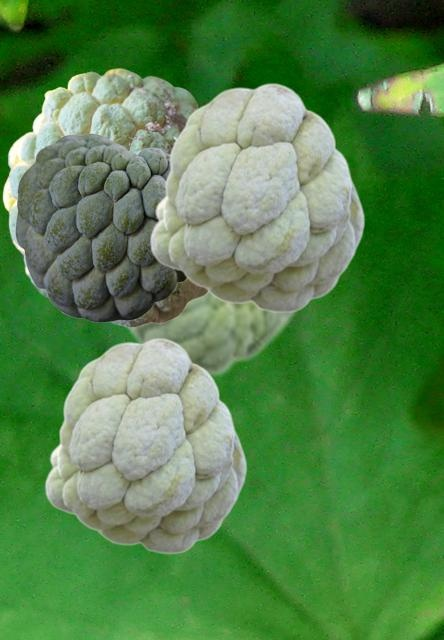atis: (2, 68, 208, 326), (149, 82, 364, 312), (44, 337, 246, 553), (15, 133, 186, 321), (119, 293, 300, 377)
